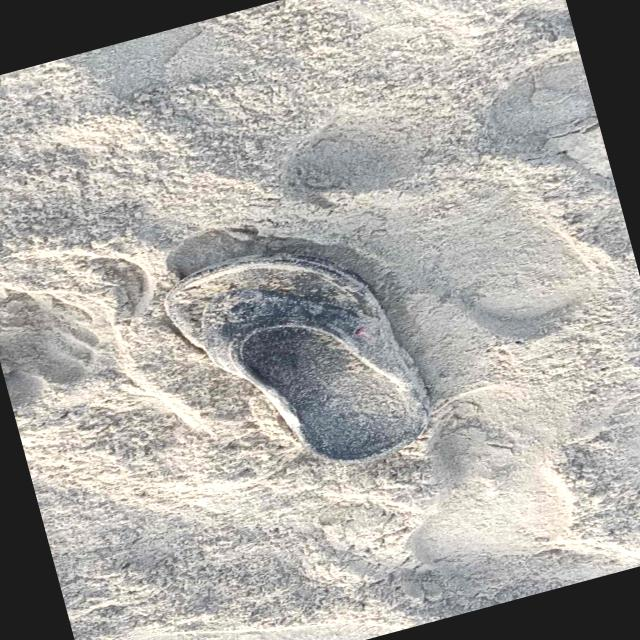dep: (165, 252, 431, 462)
